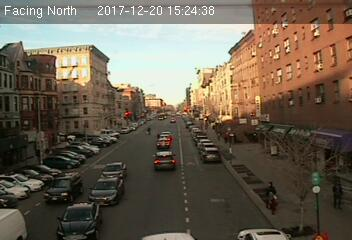car: (54, 201, 105, 240), (43, 172, 84, 204), (88, 176, 126, 205), (151, 150, 176, 171), (199, 145, 223, 165), (100, 162, 127, 178), (156, 137, 170, 148)
